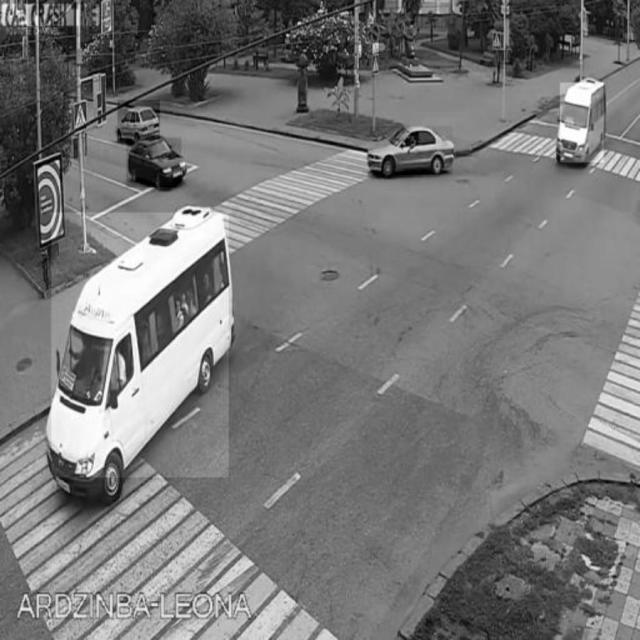vehicle: (52, 213, 229, 477), (370, 127, 452, 177), (560, 83, 604, 163), (127, 138, 182, 188), (118, 100, 160, 140)
